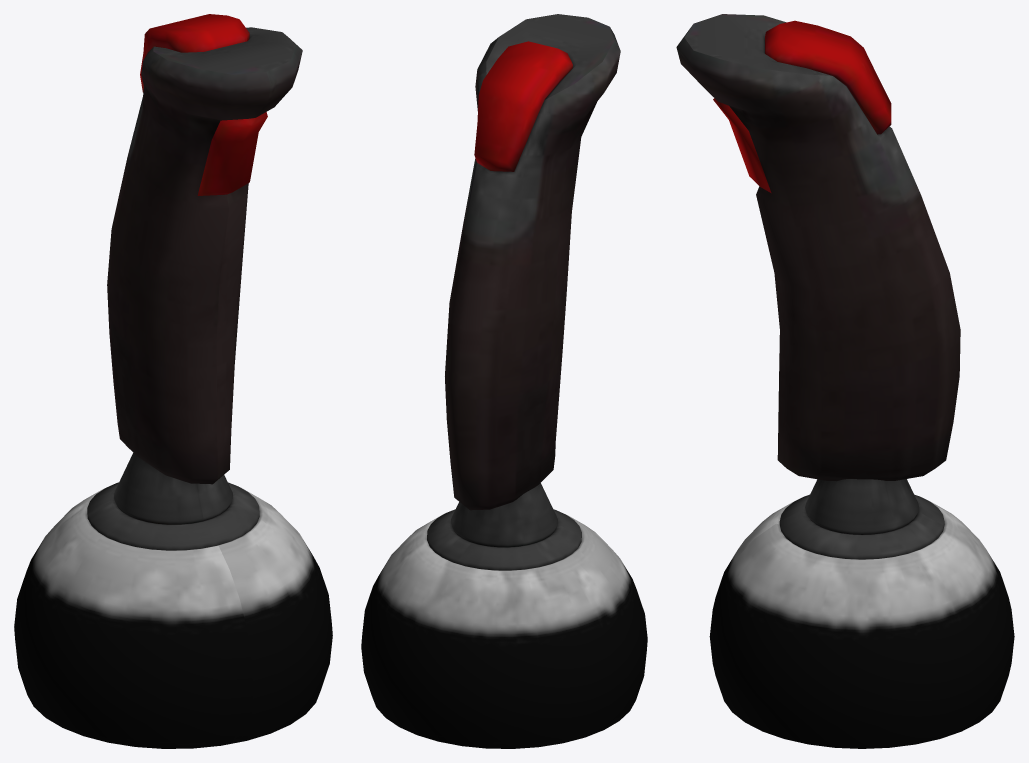
Rendered from CockpitJoystick.fbx.
3 renders of one model, left to right at view 1: azimuth 30°, elevation 25°; view 2: azimuth 150°, elevation 25°; view 3: azimuth 270°, elevation 25°, orthographic. The views are drawn at different scales.
Visible parts, largest first — view 1: steering_center_0; view 2: steering_center_0; view 3: steering_center_0.
Boxes of the visible parts, x1,y1,x2,y2 form: steering_center_0: [14, 14, 332, 748]; steering_center_0: [361, 14, 647, 748]; steering_center_0: [676, 14, 1014, 748].
Size of the model in its own units: 8.33 by 19.84 by 9.24.
